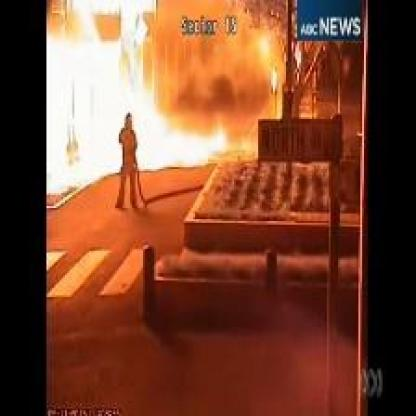fire: (47, 2, 245, 193)
